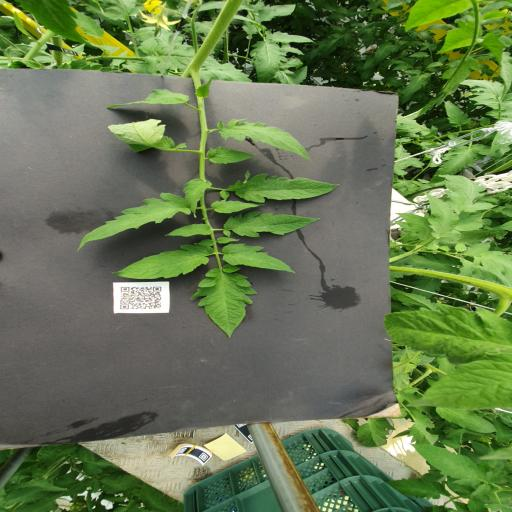Healthy: (78, 192, 191, 251), (190, 264, 259, 336), (409, 442, 508, 485), (219, 170, 341, 203), (217, 117, 310, 160), (114, 244, 215, 280), (13, 0, 90, 45), (106, 119, 187, 153), (222, 211, 322, 238), (438, 174, 498, 215), (404, 0, 474, 33), (221, 244, 296, 274), (427, 148, 484, 184), (107, 88, 190, 109), (436, 406, 498, 434), (424, 191, 460, 239), (250, 39, 287, 83), (182, 178, 212, 218), (356, 418, 396, 447), (460, 80, 504, 104), (395, 213, 433, 240), (71, 10, 104, 39), (208, 146, 257, 164), (211, 199, 265, 214), (394, 292, 438, 310), (257, 4, 296, 23), (444, 101, 472, 127), (164, 223, 211, 237), (405, 73, 430, 97), (267, 32, 316, 44), (195, 77, 213, 98), (463, 242, 492, 255), (140, 37, 161, 54), (291, 65, 308, 85)
